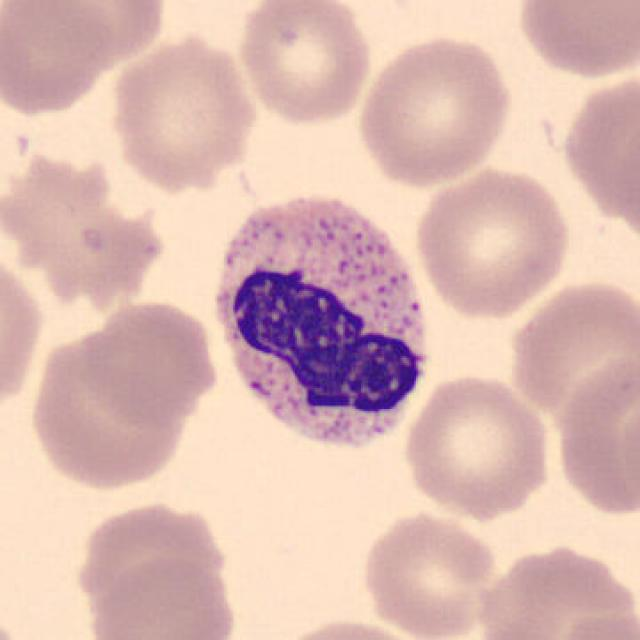Neutrophil: (206, 183, 441, 469)
RBC: (23, 318, 203, 496), (0, 149, 163, 317), (411, 162, 574, 321), (105, 28, 259, 194), (354, 32, 516, 188), (398, 370, 555, 524), (71, 498, 233, 622), (503, 274, 638, 422), (76, 294, 222, 425), (358, 506, 502, 638), (235, 0, 375, 129), (471, 540, 637, 638), (549, 349, 640, 524), (556, 65, 640, 252), (83, 553, 241, 640), (0, 0, 116, 118), (512, 0, 638, 81), (26, 0, 170, 67), (0, 242, 48, 423), (268, 613, 439, 640), (546, 604, 640, 640)
